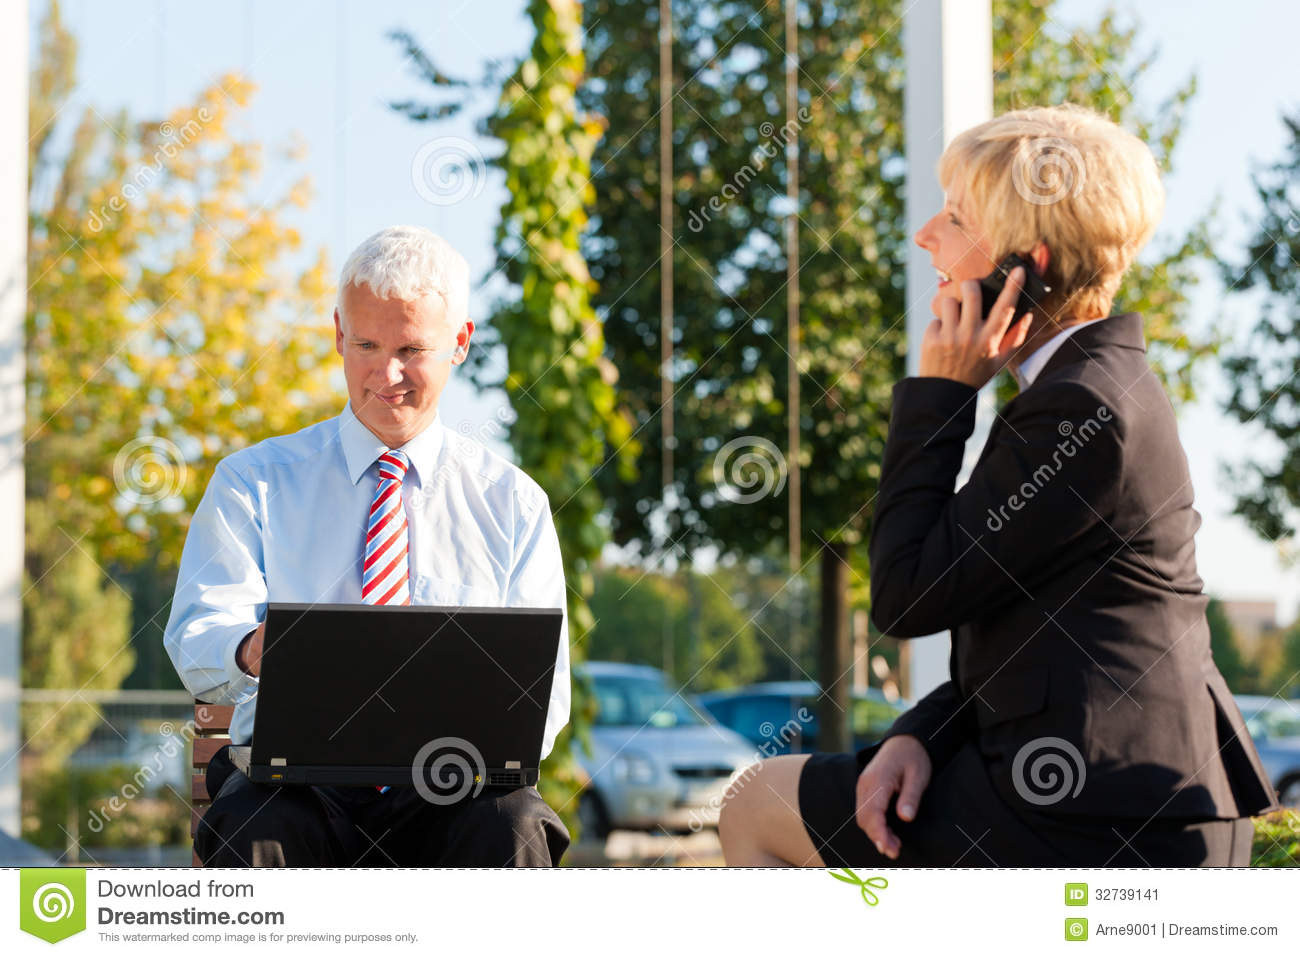phone: (969, 259, 1050, 333)
talk: (913, 192, 1055, 383)
